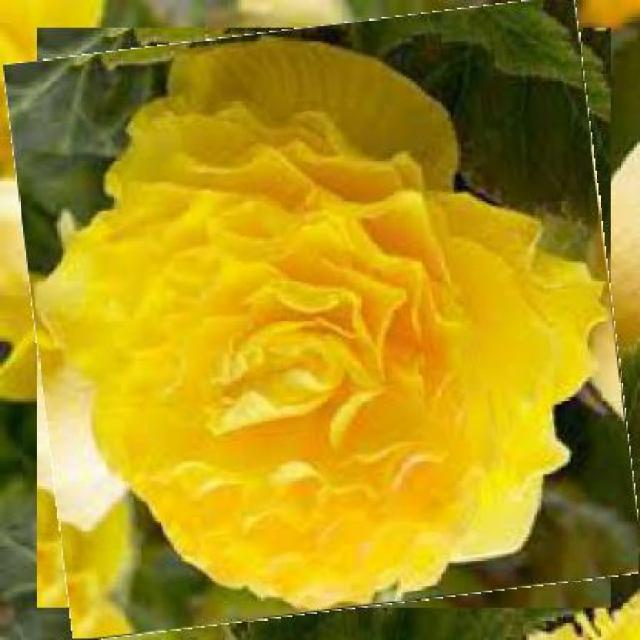Flower: (21, 12, 628, 626)
